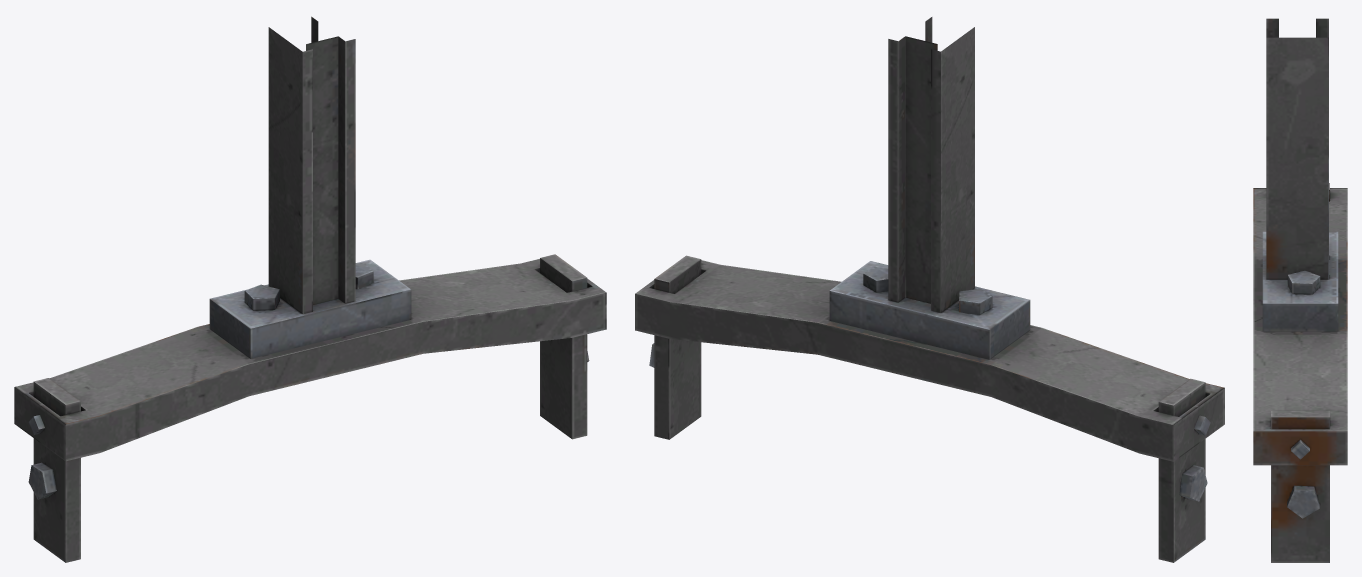
Rendered from roller_to_walled_middle.glb.
3 views of the same model, side by side, from view 1: azimuth 30°, elevation 25°; view 2: azimuth 150°, elevation 25°; view 3: azimuth 270°, elevation 25° (orthographic). The views are drawn at different scales.
Parts seen in each view (by area): view 1: roller_to_walled_middle; view 2: roller_to_walled_middle; view 3: roller_to_walled_middle.
Boxes of the visible parts, bbox=[...] form: roller_to_walled_middle: bbox=[14, 16, 606, 562]; roller_to_walled_middle: bbox=[635, 17, 1224, 562]; roller_to_walled_middle: bbox=[1253, 18, 1347, 562].
Bounding box in the file's own units: 1.06 × 0.8323 × 0.1697.
1 material, 1 textured.
